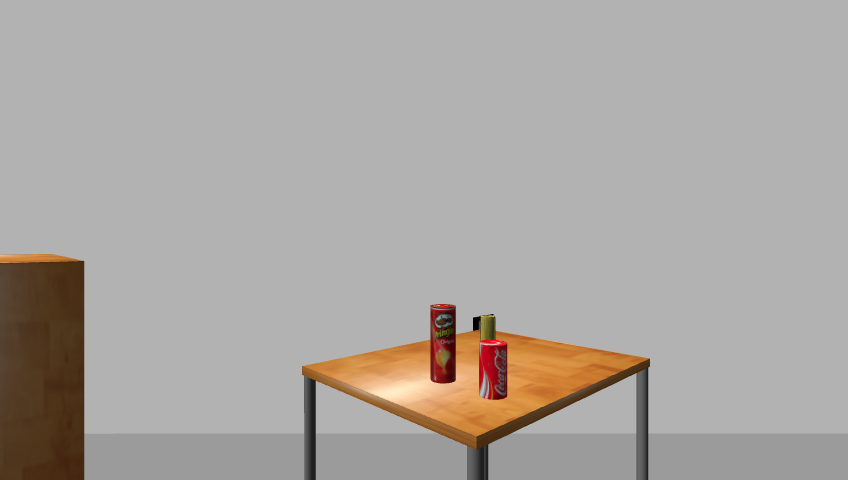biscuits pack: (476, 314, 497, 344)
bookshelf: (0, 253, 92, 479)
coke can: (477, 340, 509, 400)
dinner table: (293, 334, 659, 479)
pringles can: (429, 303, 457, 385)
